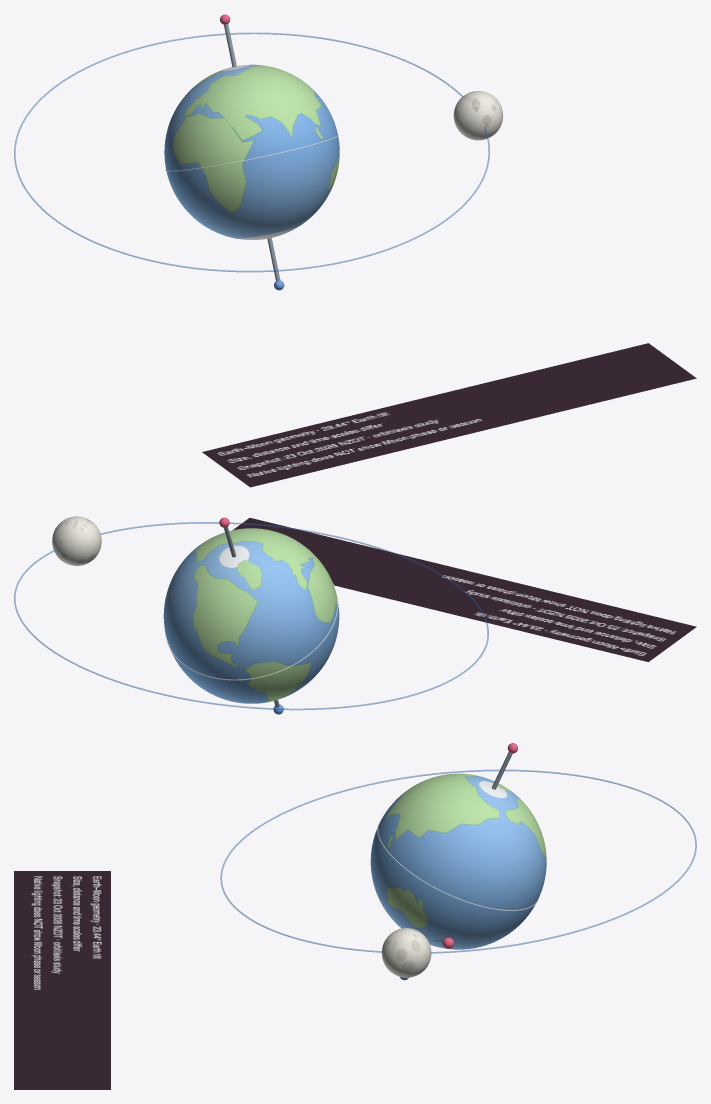
File: sky.glb
The picture shows the model from 3 angles, top to bottom: view 1: azimuth 30°, elevation 25°; view 2: azimuth 150°, elevation 25°; view 3: azimuth 270°, elevation 25°; orthographic projection.
Parts seen in each view (by area): view 1: sky_authored_teaching_model, Scale_and_credit; view 2: sky_authored_teaching_model, Scale_and_credit; view 3: sky_authored_teaching_model, Scale_and_credit.
Boxes of the visible parts, <box> form: sky_authored_teaching_model: <box>14,14,503,290</box>; Scale_and_credit: <box>202,343,696,487</box>; sky_authored_teaching_model: <box>14,516,488,714</box>; Scale_and_credit: <box>233,518,696,661</box>; sky_authored_teaching_model: <box>220,743,696,980</box>; Scale_and_credit: <box>14,871,110,1089</box>.
Size of the model in its own units: 0.6 by 0.303 by 0.7916.
9 materials, 3 textured.
